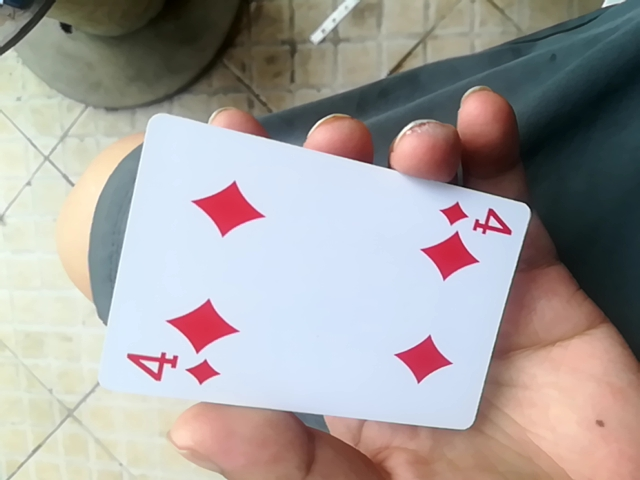fk 4: (98, 106, 534, 436)
